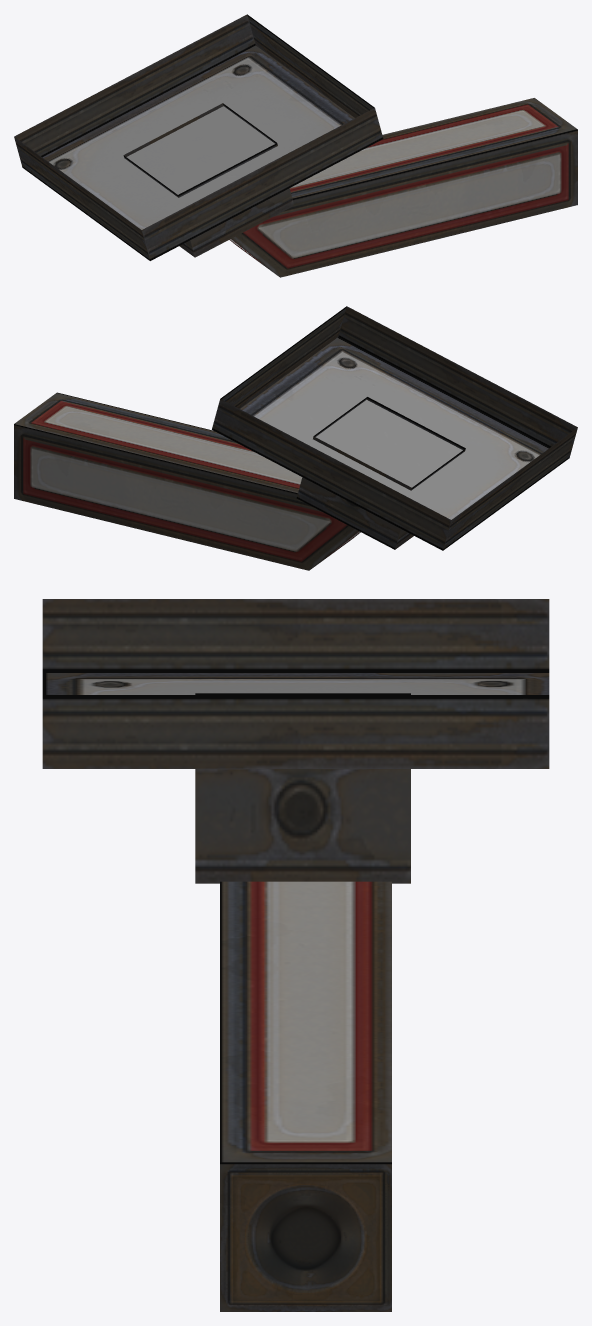
The model's file is accessories_minigun.FBX.
The picture shows the model from 3 angles, top to bottom: view 1: azimuth 30°, elevation 25°; view 2: azimuth 150°, elevation 25°; view 3: azimuth 270°, elevation 25°; orthographic projection. The views are drawn at different scales.
Visible parts, largest first — view 1: Object001; view 2: Object001; view 3: Object001.
Part boxes in pixels (x1,y1,x2,y2): Object001: [14, 14, 577, 277]; Object001: [14, 306, 577, 570]; Object001: [42, 599, 549, 1311].
Bounding box in the file's own units: 21.4 × 8.09 × 9.84.
